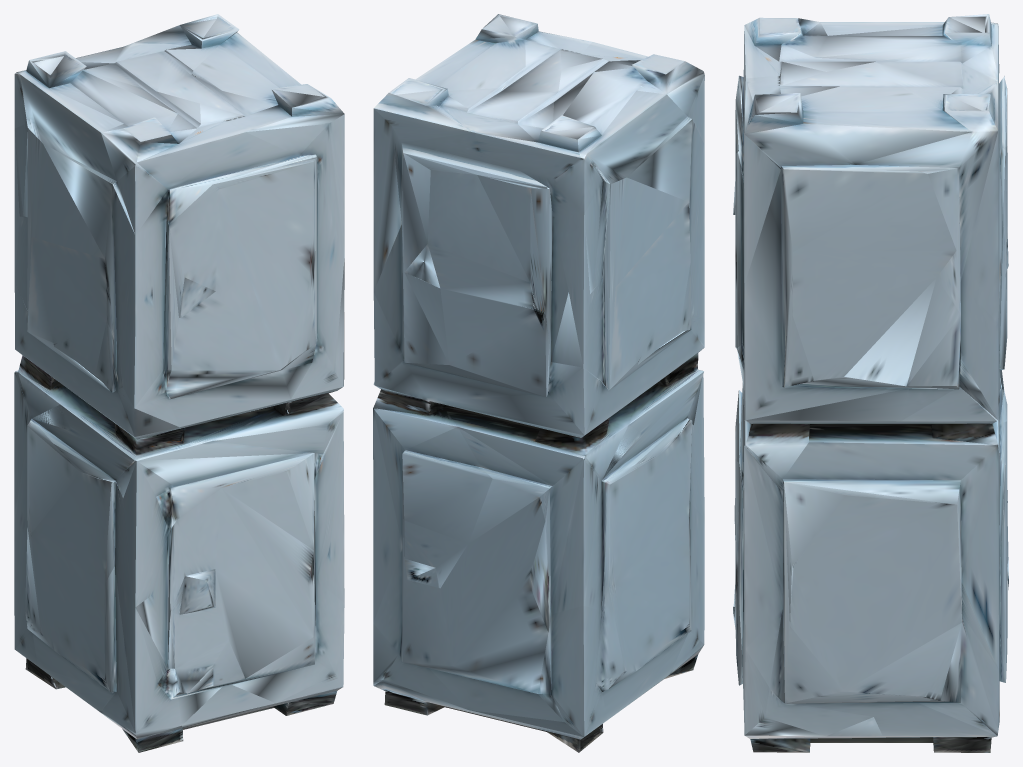
File: cover_full_snow_v1_lod1.glb
3 views of the same model, side by side, from view 1: azimuth 30°, elevation 25°; view 2: azimuth 150°, elevation 25°; view 3: azimuth 270°, elevation 25° (orthographic). The views are drawn at different scales.
Bounding box in the file's own units: 0.7112 × 1.85 × 0.7204.
Materials: 1 (1 with a texture image).
